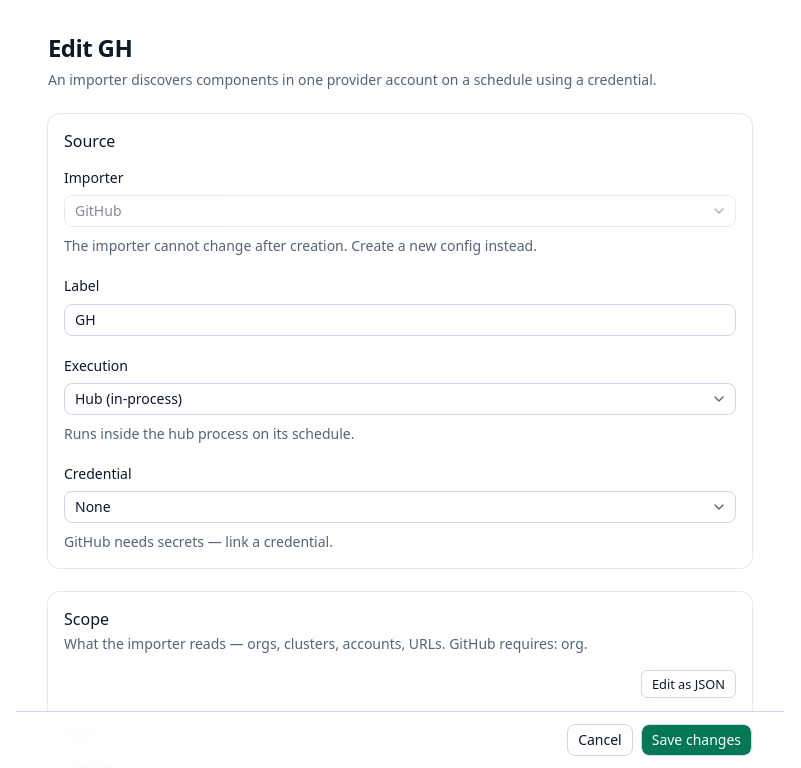
ImporterForm — schema-driven scope fields (G13) › maps server VALIDATION_FAILED scope paths to their fields (FR-009)
What coordinates should you click on to do the following:
click the button "Save changes"
I would click on:
 (696, 740)
Its box is [641,724,752,756].
(page scrolled)
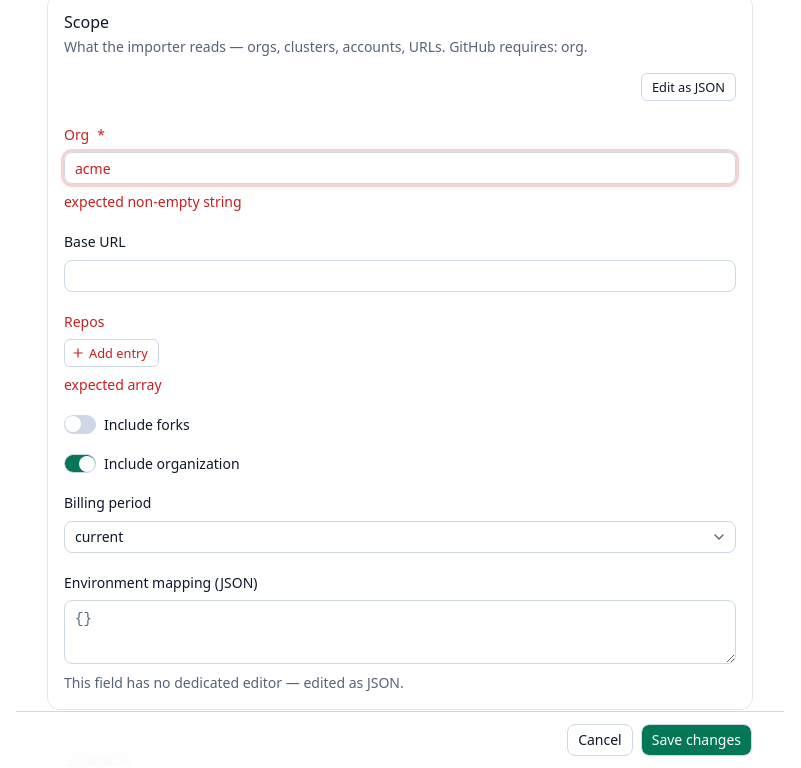
Check: the text "expected non-empty string" is shown, box [64,192,242,211]
Check: the text "expected array" is shown, box [64,375,162,394]
